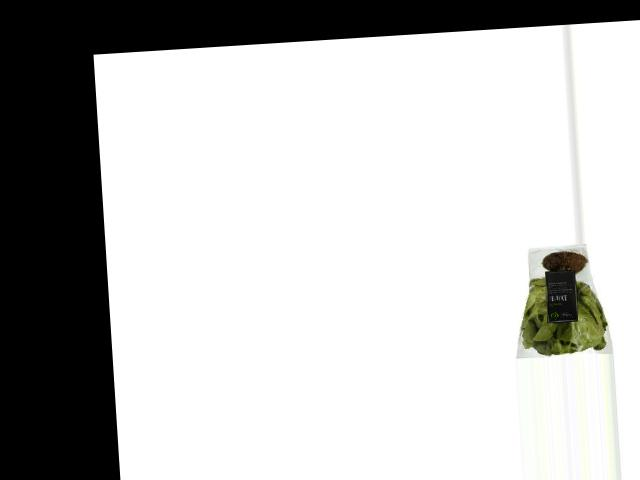lettuce: (511, 242, 612, 358)
